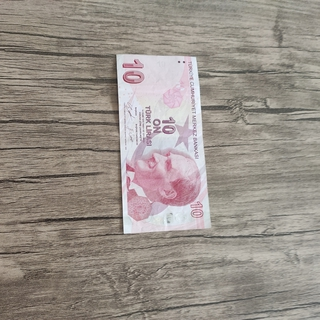10TLFront: (115, 53, 212, 234)
